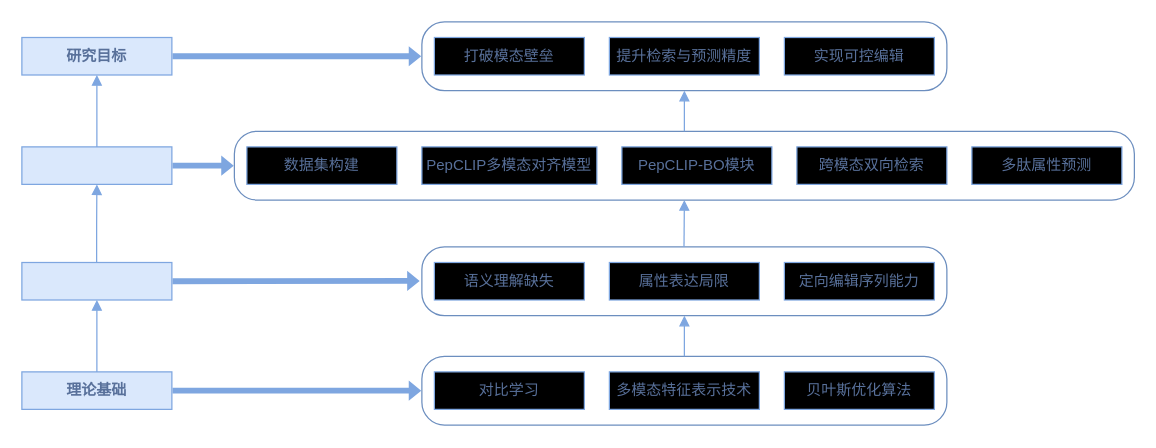
Some shapes in this 1156 by 448 pixel diagram are drawn without their labels. The shapes that lost their labels are listed below. From the top down, each one's centre as x and y in pixels, then its label:
(96,165): 主要研究内容
(96,280): 针对问题
